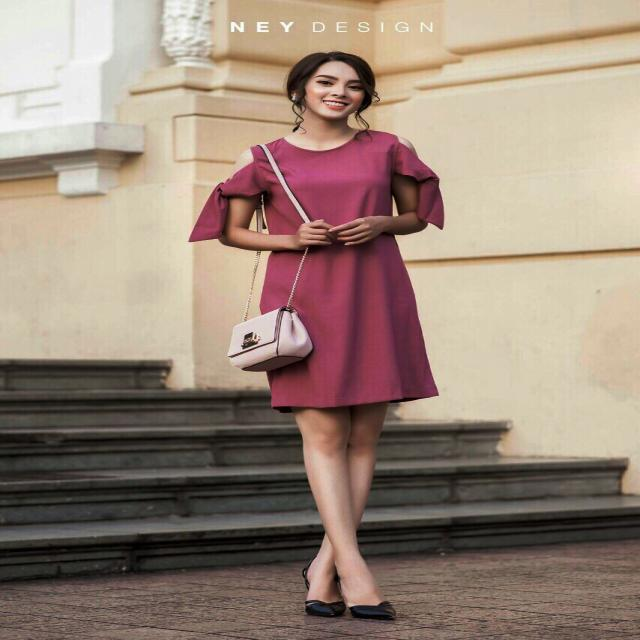clothes: (210, 125, 447, 414)
